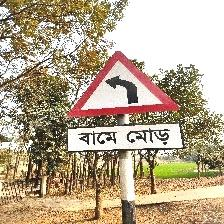Left-Turn: (65, 50, 184, 155)
